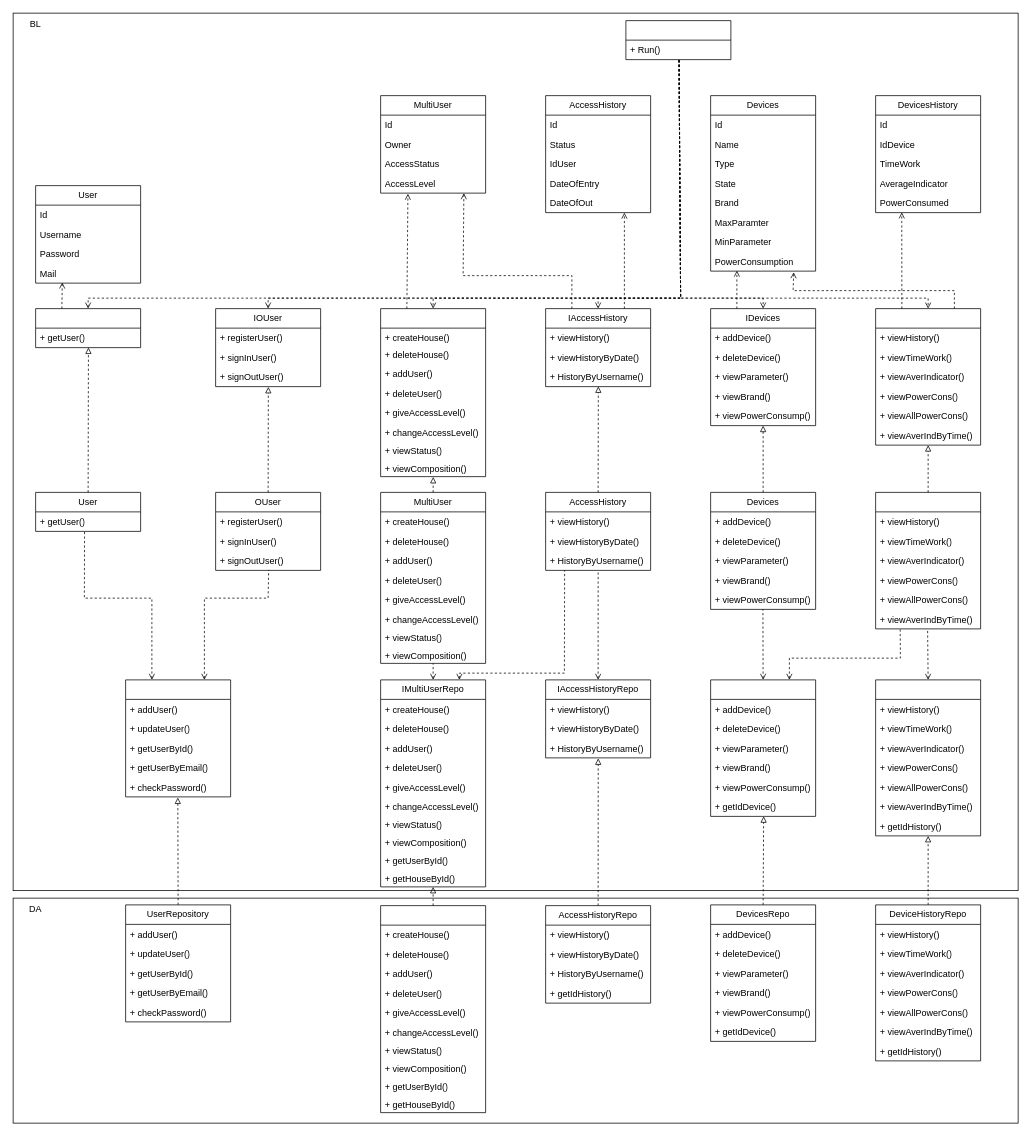
The diagram is 1031 pixels wide and 1136 high, and some of its shapes have lost their labels. The box of each missing label's shape, as (x1, y1, x2, y2) in pixels:
App: (625, 20, 731, 60)
DeviceHistory: (875, 492, 981, 629)
IDeviceHistory: (875, 308, 981, 445)
IDeviceHistoryRepo: (875, 679, 981, 836)
IDevicesRepo: (710, 679, 816, 816)
IMultiUser: (380, 308, 486, 477)
IUser: (35, 308, 141, 348)
IUserRepository: (125, 679, 231, 797)
MultiUserRepo: (380, 905, 486, 1113)
